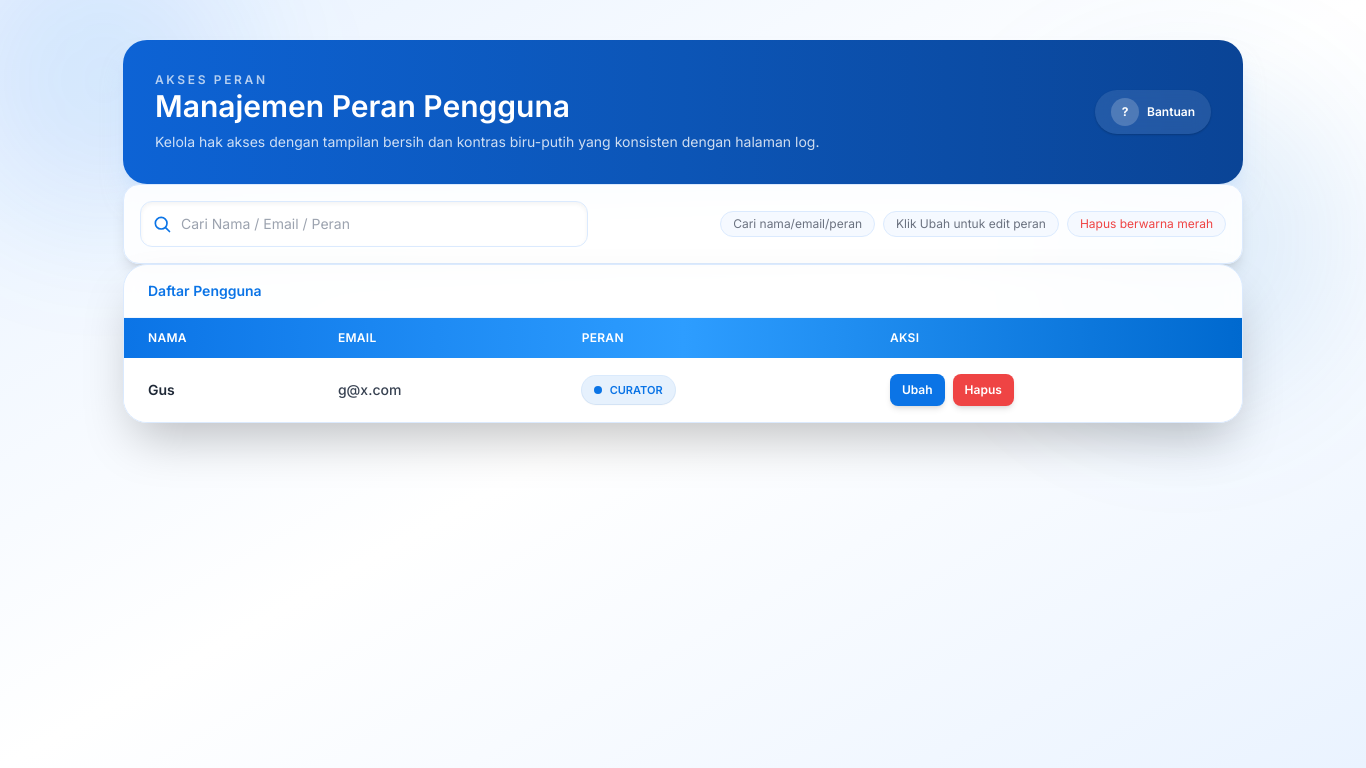
Test: Admin role management - coverage targets › shows error toast when save fails
Expected: the text "Gus" is shown, [148, 381, 175, 398]
# open role modal
Click the button "Ubah".
click(917, 390)  # box [890, 374, 945, 406]
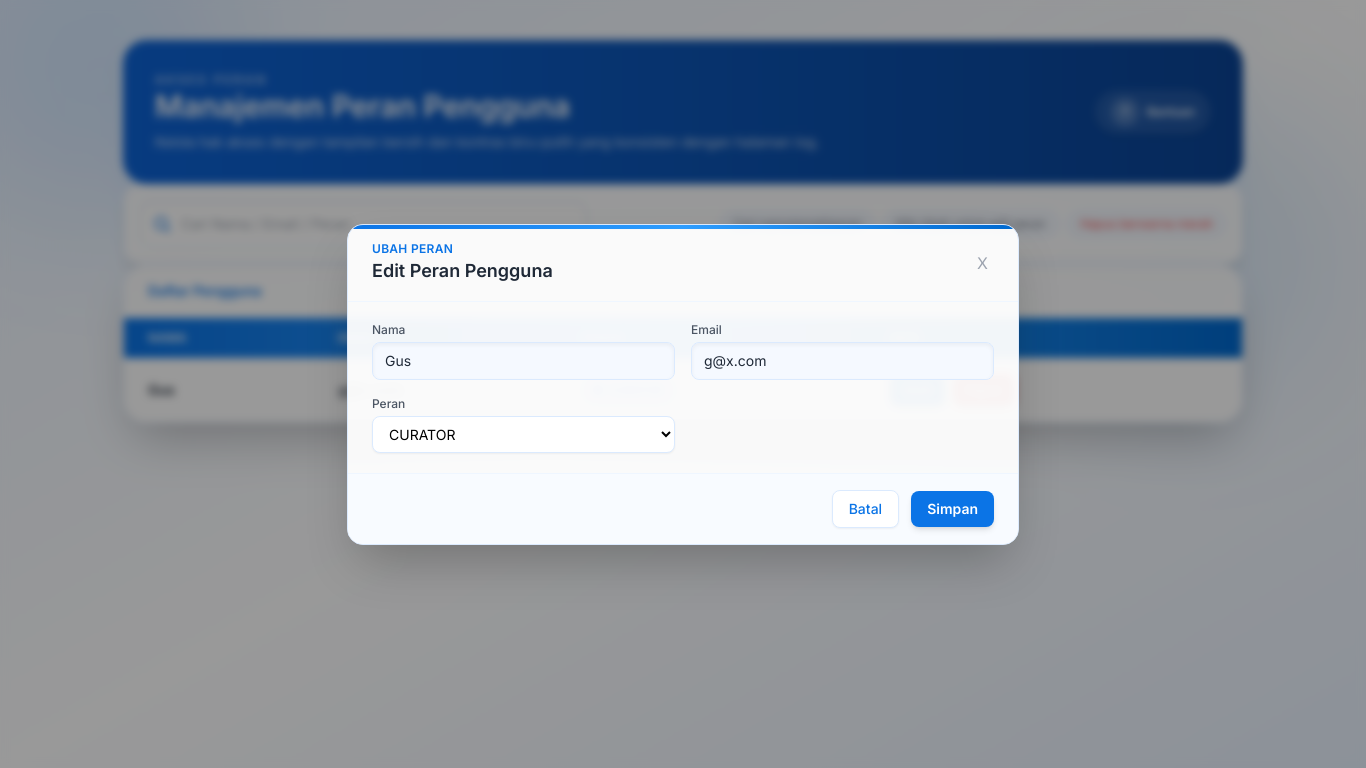
Expected: the heading "Edit Peran Pengguna" is shown, [372, 256, 553, 284]
# click Simpan (this will fail)
Click the button "Simpan".
click(953, 508)  # box [911, 490, 994, 526]
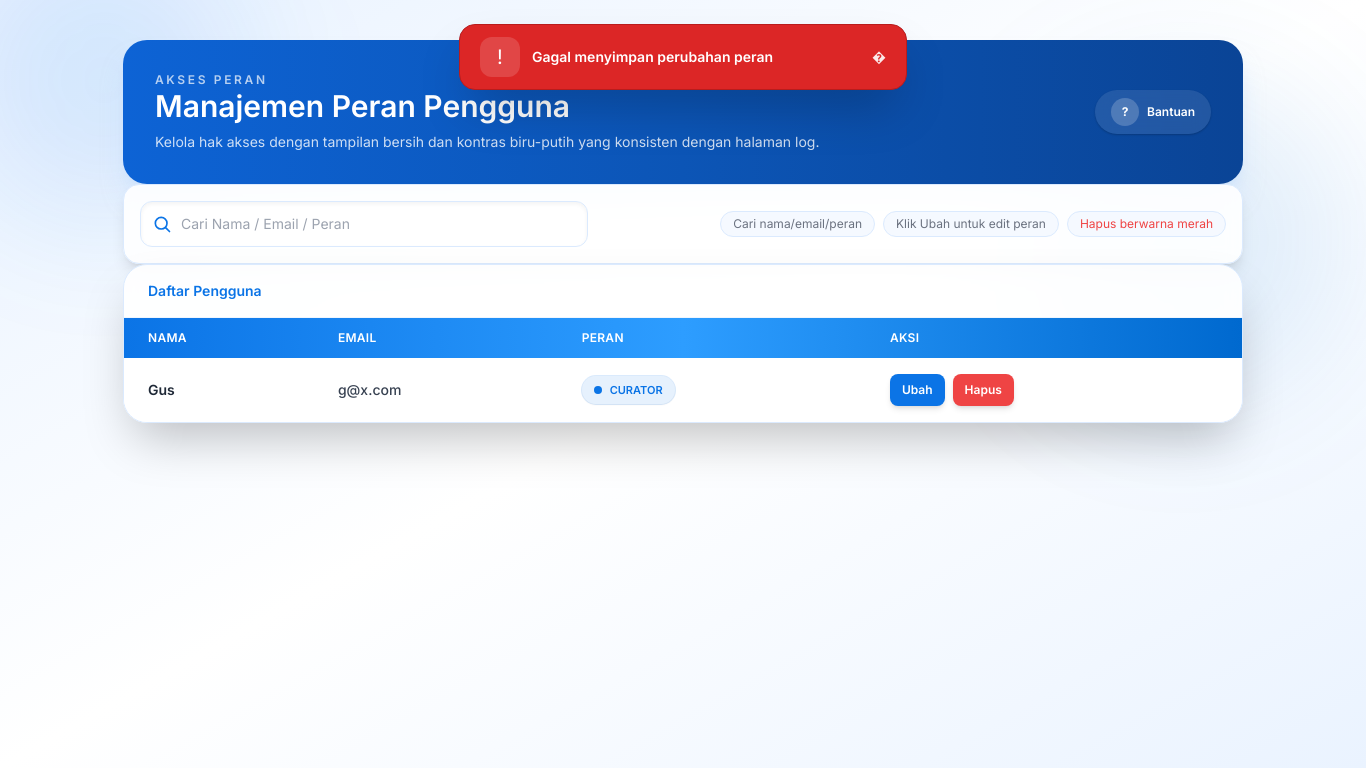
Expected: the message "! Gagal menyimpan perubahan peran �" is shown, [459, 24, 907, 90]
Expected: the message with test id "toast-error" shows "Gagal menyimpan perubahan peran", [532, 48, 773, 65]
